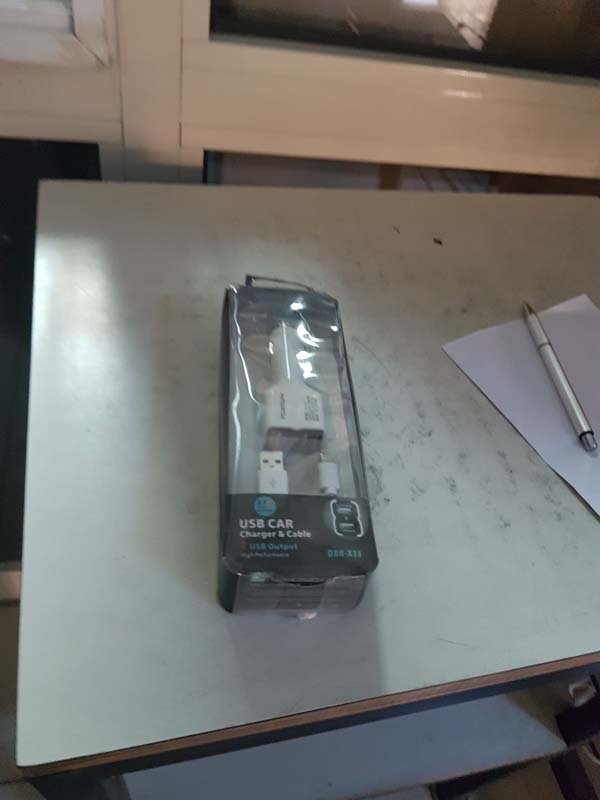usbcarcharger: (208, 266, 381, 621)
